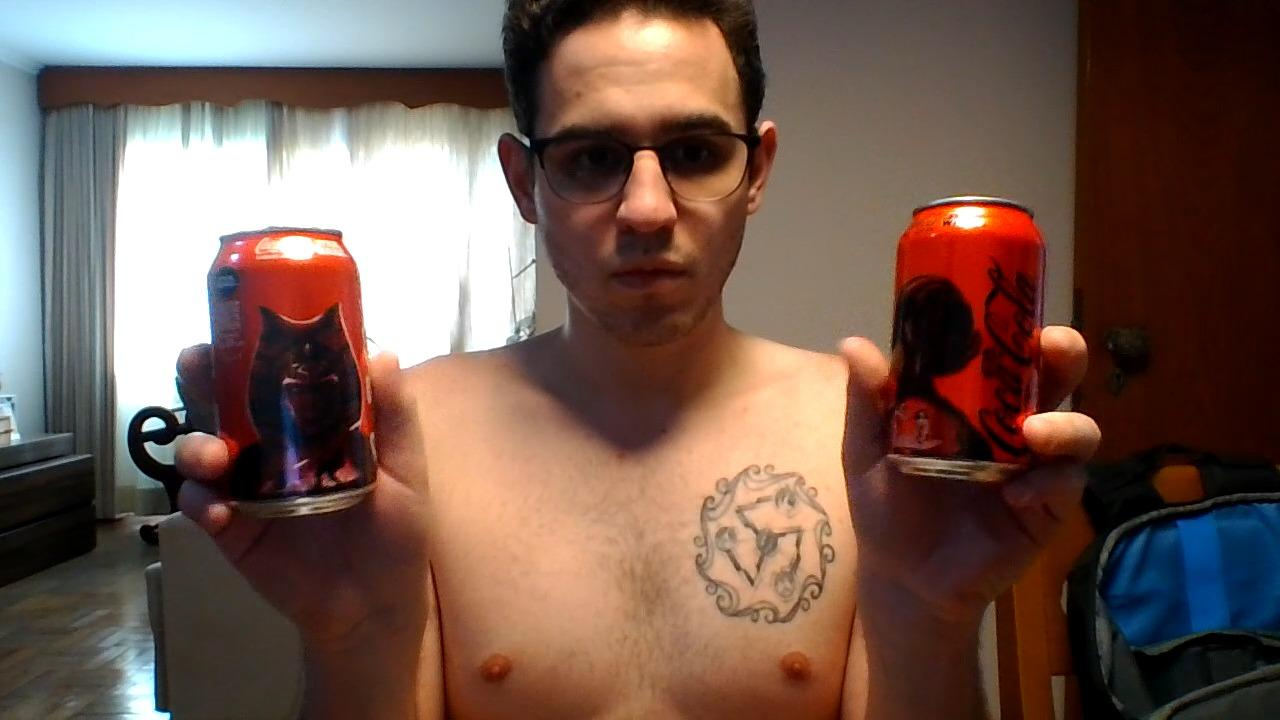coke: (210, 233, 378, 507), (890, 206, 1045, 472)
